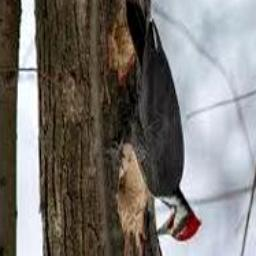Woodpecker: (112, 0, 201, 242)
